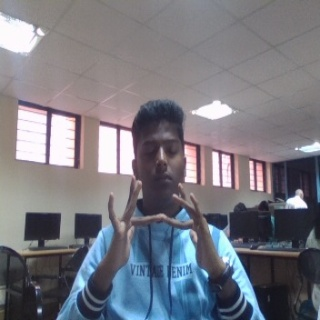Internet: (101, 173, 219, 273)
